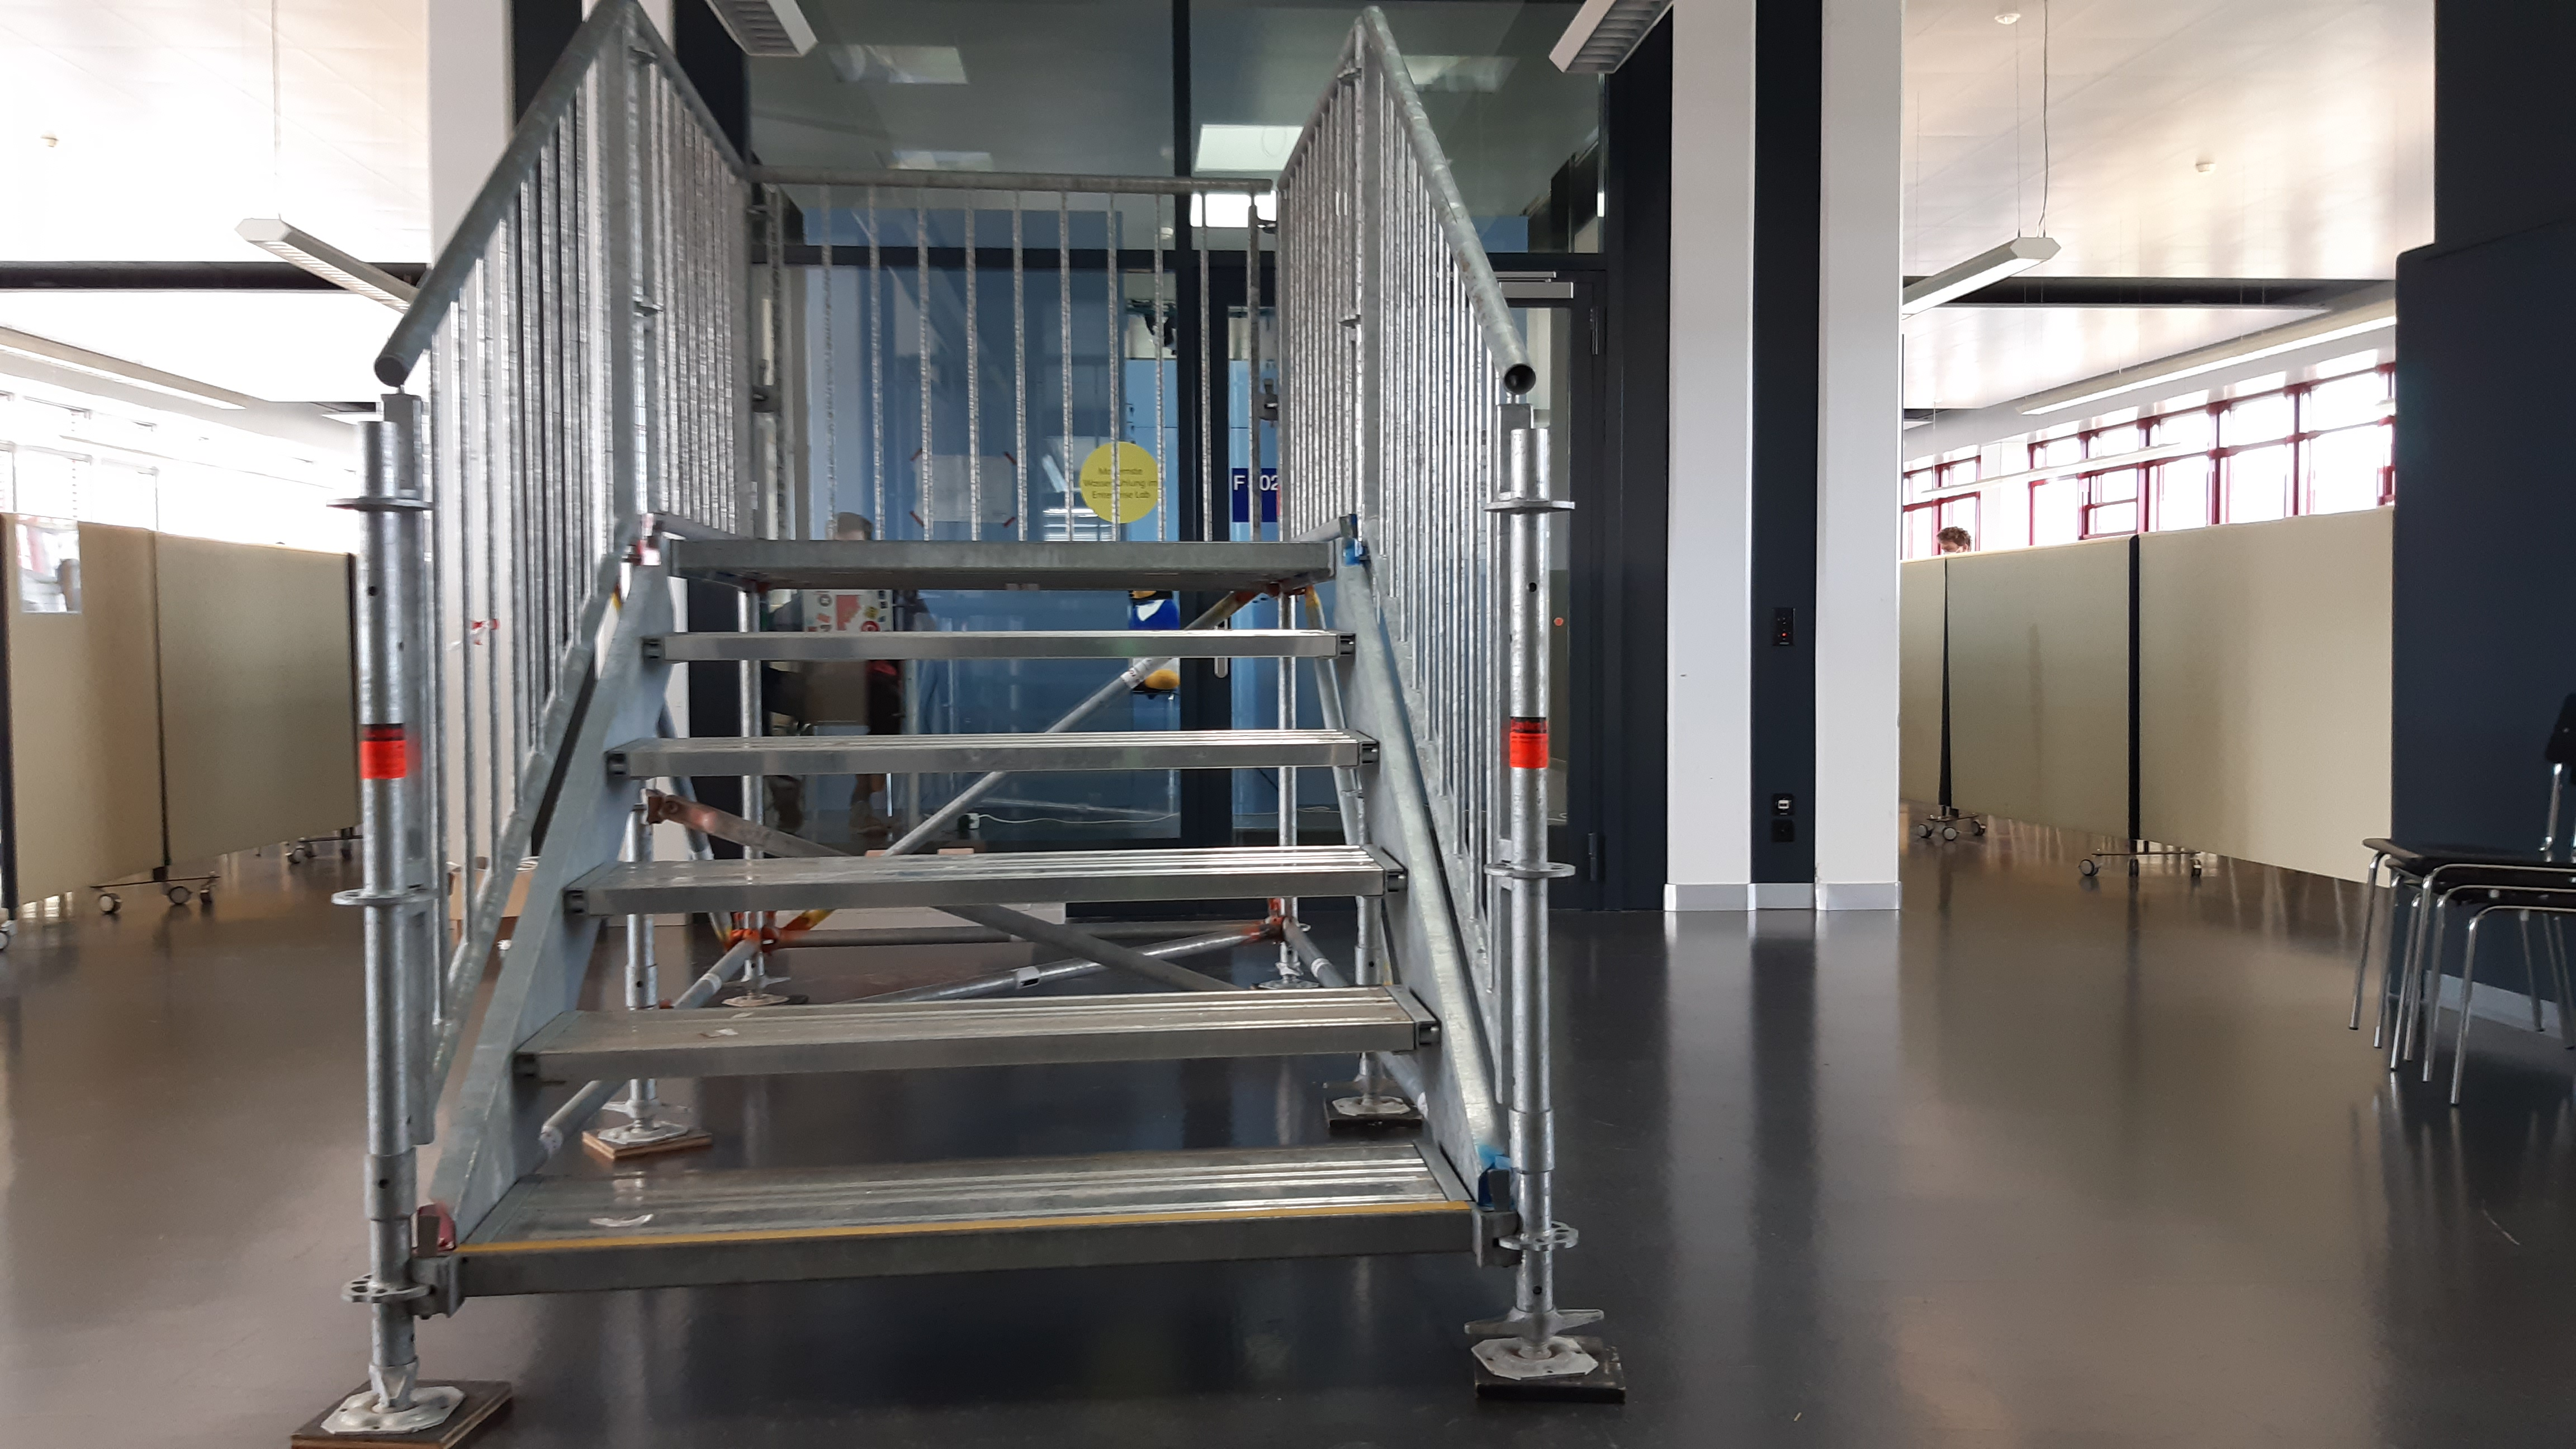edge: (467, 1205, 1468, 1293), (510, 1017, 1437, 1076), (559, 863, 1403, 911), (602, 736, 1378, 777), (633, 626, 1353, 660), (667, 538, 1332, 570)
stairs: (290, 2, 1631, 1444)
steps: (448, 533, 1476, 1297)
